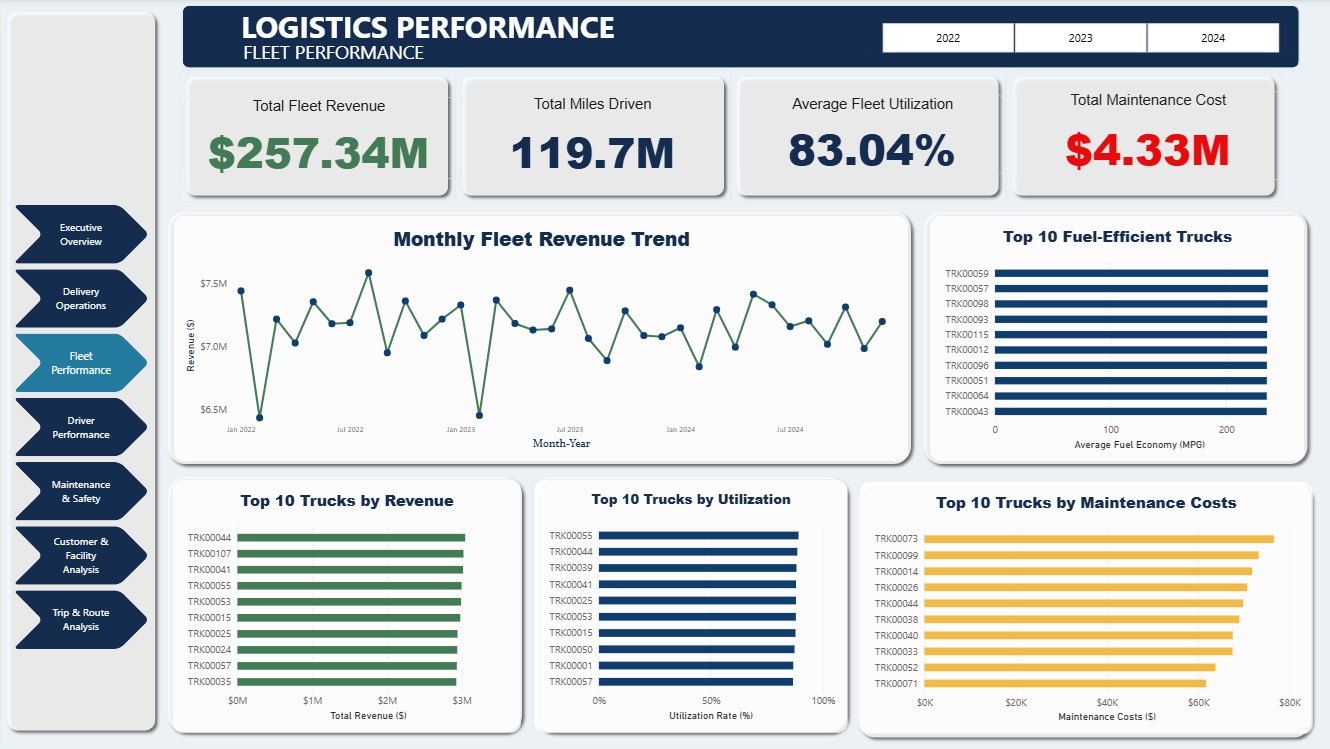

This screenshot's page, from the dashboard's own definition file:
{"tool":"powerbi","page":{"name":"Fleet Performance","canvas":[1920,1080],"ordinal":2},"visuals":[{"type":"shape","box":[0,10,230,1047.5],"z":0},{"type":"shape","box":[259,10.3,1600,90],"z":1000},{"type":"shape","box":[255,102.5,395,190],"z":2000},{"type":"shape","box":[230,297.5,1082.5,380],"z":3000},{"type":"shape","box":[756.9,676.5,464.7,384.3],"z":4000},{"type":"shape","box":[229.4,676.5,525.5,384.3],"z":5000},{"type":"shape","box":[1312.5,297.5,567.5,380],"z":6000},{"type":"shape","box":[1217.5,682.5,667.5,385],"z":7000},{"type":"textbox","box":[230,10,762.5,70],"z":8000},{"type":"textbox","box":[260,57.5,432.5,42.5],"z":9000},{"type":"cardVisual","title":"Total Fleet Revenue","fields":{"Data":["All Measures.Total Fleet Revenue"]},"box":[260,142.5,390,117.5],"z":11000},{"type":"shape","box":[1045,102.5,395,190],"z":12000},{"type":"cardVisual","title":"Average Fleet Utilization","fields":{"Data":["All Measures.Average Fleet Utilization"]},"box":[1060,140,377.5,112.5],"z":13000},{"type":"lineChart","title":"Monthly Fleet Revenue Trend","fields":{"Category":["truck_utilization_metrics.month"],"Y":["All Measures.Total Fleet Revenue"]},"box":[247.5,312.5,1052.5,352.5],"z":14000},{"type":"barChart","title":"Top 10 Trucks by Revenue","fields":{"Category":["truck_utilization_metrics.truck_id"],"Y":["All Measures.Total Fleet Revenue"]},"box":[245,690,500,362.5],"z":15000},{"type":"clusteredBarChart","title":"Top 10 Trucks by Utilization","fields":{"Category":["truck_utilization_metrics.truck_id"],"Y":["All Measures.Average Fleet Utilization"]},"box":[762.5,690,450,362.5],"z":16000},{"type":"clusteredBarChart","title":"Top 10 Trucks by Maintenance Costs","fields":{"Category":["truck_utilization_metrics.truck_id"],"Y":["All Measures.Total Maintenance Costs"]},"box":[1230,692.5,650,362.5],"z":17000},{"type":"shape","box":[650,102.5,395,190],"z":18000},{"type":"cardVisual","title":"Total Miles Driven","fields":{"Data":["All Measures.Total Miles Driven"]},"box":[660,140,375,120],"z":19000},{"type":"pageNavigator","box":[17.5,297.5,195,637],"z":20000},{"type":"shape","box":[1440,102.5,395,190],"z":21000},{"type":"cardVisual","title":"Total Maintenance Cost","fields":{"Data":["All Measures.Total Maintenance Costs"]},"box":[1450,132.5,385,127.5],"z":22000},{"type":"clusteredBarChart","title":"Top 10 Fuel-Efficient Trucks","fields":{"Category":["truck_utilization_metrics.truck_id"],"Y":["Sum(truck_utilization_metrics.average_mpg)"]},"box":[1330,312.5,537.5,352.5],"z":23000},{"type":"slicer","fields":{"Values":["Calendar.Year"]},"box":[1242.5,35,607.5,45],"z":24000}]}

Visuals, with their boxes in screenshot pixels (x1, y1, x2, y2), scaled from the page's 1920x1080 canvas onto the 1330x749 screenshot:
shape: 0 7 159 733
shape: 179 7 1288 70
shape: 177 71 450 203
shape: 159 206 909 470
shape: 524 469 846 736
shape: 159 469 523 736
shape: 909 206 1302 470
shape: 843 473 1306 740
textbox: 159 7 688 55
textbox: 180 40 480 69
"Total Fleet Revenue" cardVisual: 180 99 450 180
shape: 724 71 998 203
"Average Fleet Utilization" cardVisual: 734 97 996 175
"Monthly Fleet Revenue Trend" lineChart: 171 217 901 461
"Top 10 Trucks by Revenue" barChart: 170 479 516 730
"Top 10 Trucks by Utilization" clusteredBarChart: 528 479 840 730
"Top 10 Trucks by Maintenance Costs" clusteredBarChart: 852 480 1302 732
shape: 450 71 724 203
"Total Miles Driven" cardVisual: 457 97 717 180
pageNavigator: 12 206 147 648
shape: 998 71 1271 203
"Total Maintenance Cost" cardVisual: 1004 92 1271 180
"Top 10 Fuel-Efficient Trucks" clusteredBarChart: 921 217 1294 461
slicer - Calendar.Year: 861 24 1282 55
